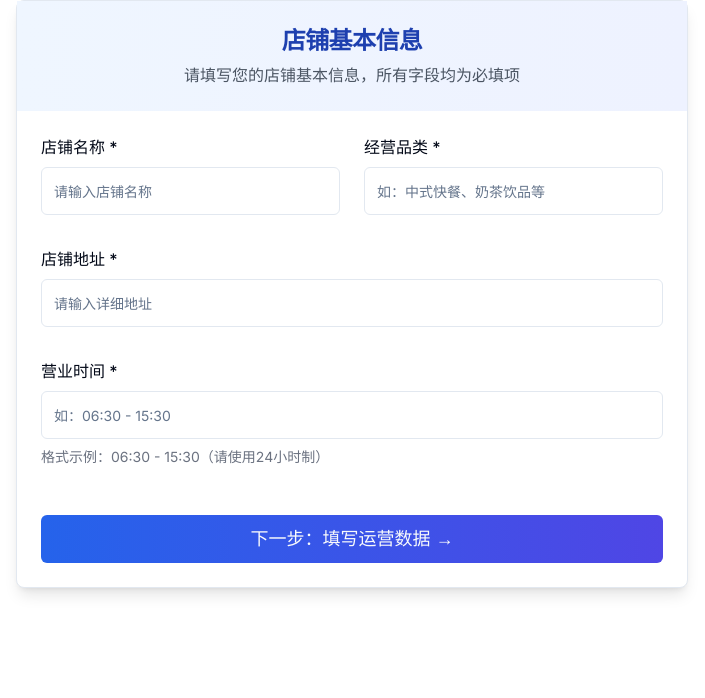
Test case: 店铺信息表单测试 › 应该验证营业时间格式
Step 1. Type "9:00-22:00" into the field labelled "营业时间 *" → (352, 415), box top-left (41, 391), bottom-right (663, 439)
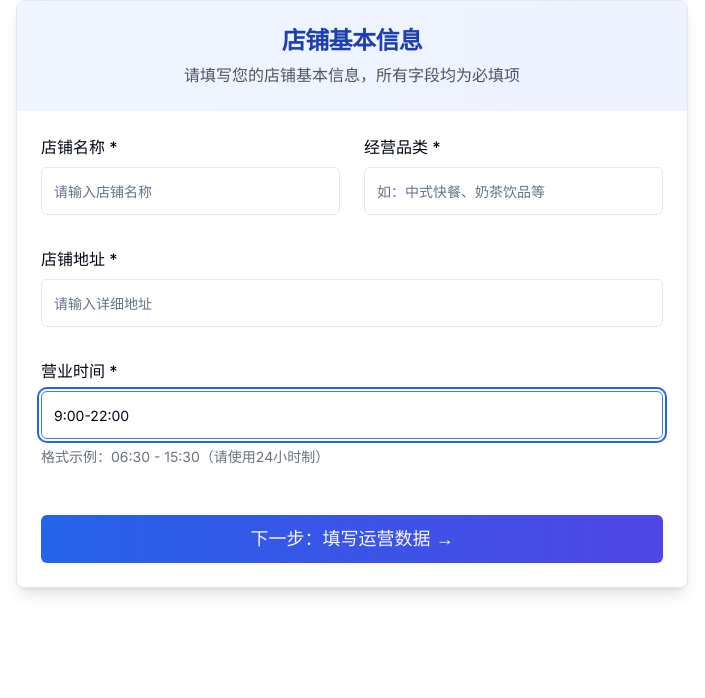
Step 2. Click the button "下一步：填写运营数据 →" → (352, 539), box top-left (41, 515), bottom-right (663, 563)
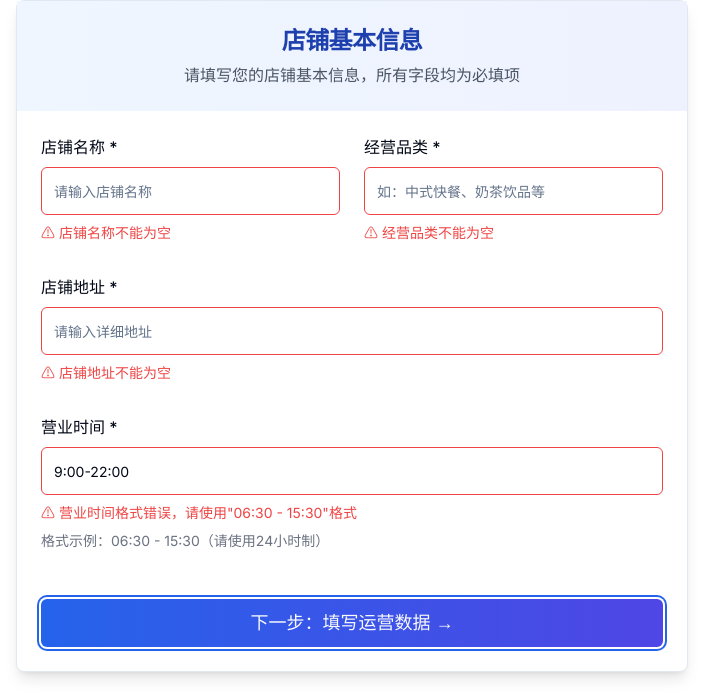
Now the text "⚠ 营业时间格式错误，请使用\"06:30 - 15:30\"格式" is shown, box top-left (41, 504), bottom-right (357, 521)
